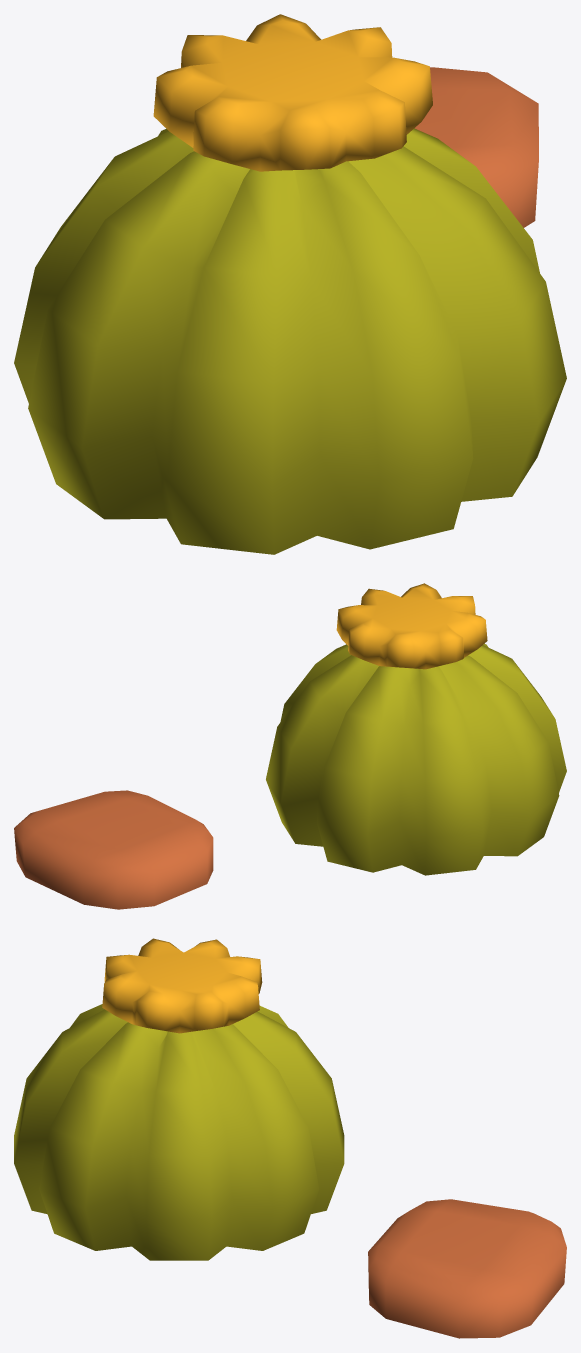
File: cactus_small.glb
3 renders of one model, top to bottom at view 1: azimuth 30°, elevation 25°; view 2: azimuth 150°, elevation 25°; view 3: azimuth 270°, elevation 25°, orthographic. The views are drawn at different scales.
Visible parts, largest first — view 1: cactus_small; view 2: cactus_small; view 3: cactus_small.
Part boxes in pixels (x1,y1,x2,y2): cactus_small: (14, 14, 566, 554); cactus_small: (14, 583, 566, 909); cactus_small: (14, 938, 566, 1338).
Size of the model in its own units: 1.24 by 0.6352 by 1.37.
Materials: 1 (1 with a texture image).
